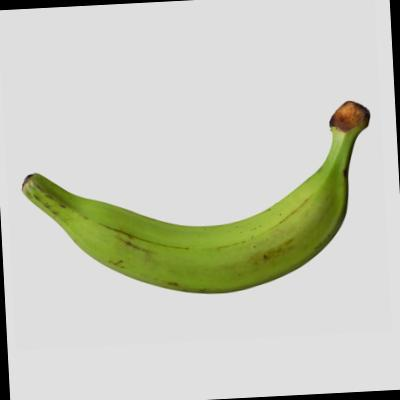Banana Unripe: (1, 91, 400, 302)
